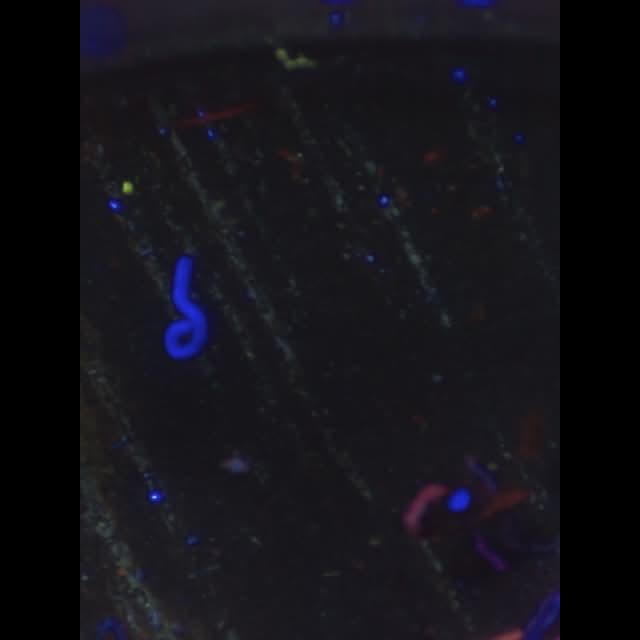Fibre: (274, 48, 318, 70)
microbeads: (122, 178, 134, 194)
